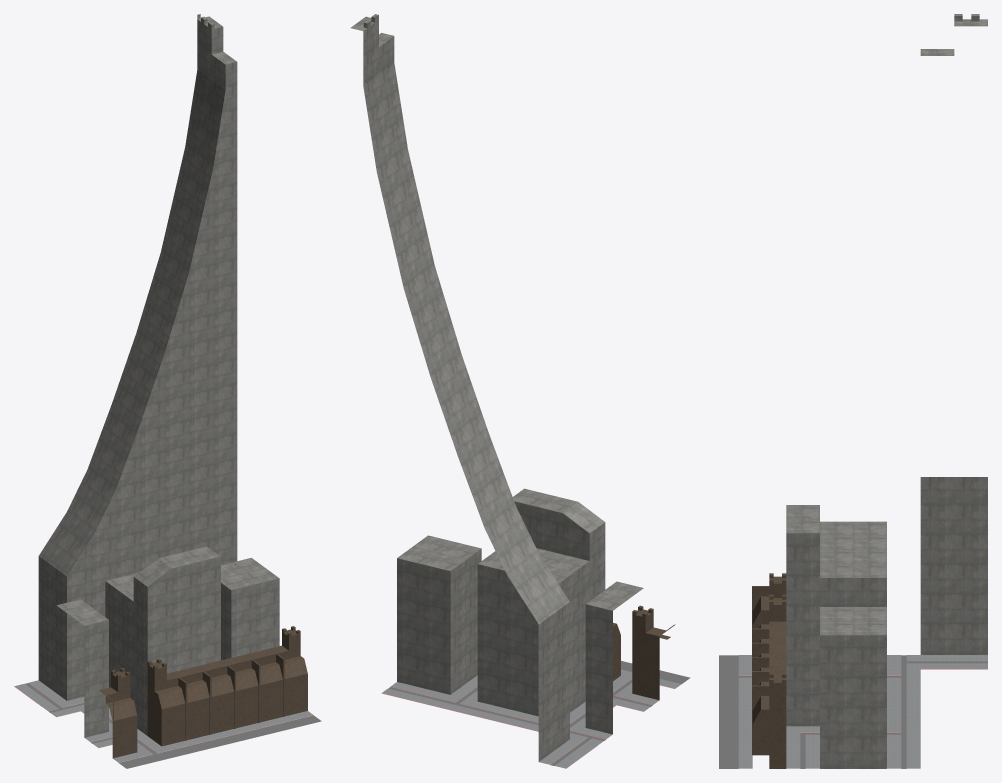
The model's file is Section7.gltf.
3 renders of one model, left to right at view 1: azimuth 30°, elevation 25°; view 2: azimuth 150°, elevation 25°; view 3: azimuth 270°, elevation 25°, orthographic. The views are drawn at different scales.
Visible parts, largest first — view 1: Section7; view 2: Section7; view 3: Section7.
Boxes of the visible parts, x1=… form: Section7: x1=14, y1=14, x2=321, y2=768; Section7: x1=351, y1=14, x2=690, y2=768; Section7: x1=719, y1=14, x2=987, y2=768.
Size of what is drawn, in the model's own units: 128 by 393 by 128.
Materials: 5 (3 with a texture image).
